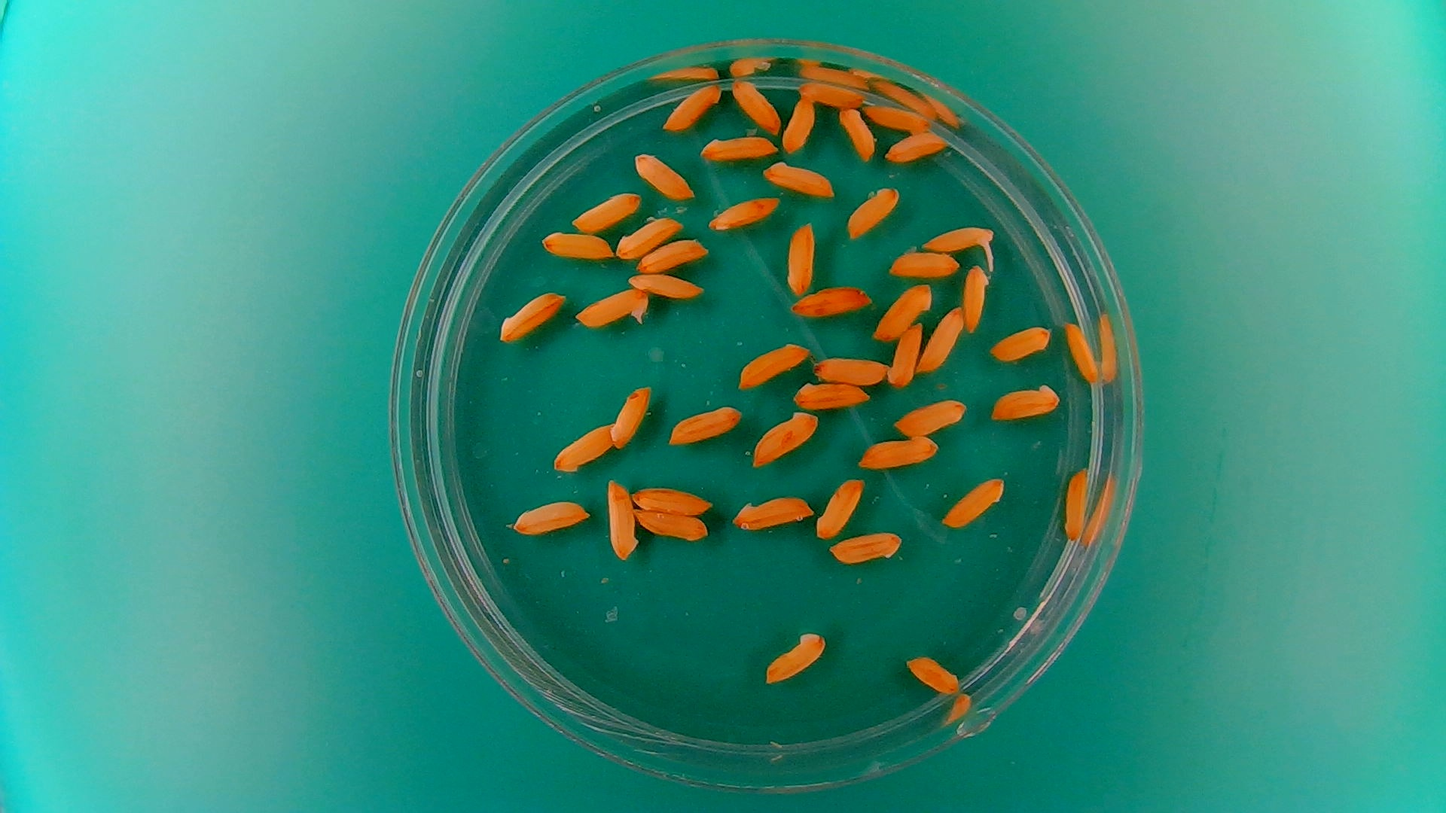no: (749, 408, 820, 470), (761, 627, 828, 686), (735, 338, 811, 390), (496, 288, 566, 344), (939, 473, 1007, 530), (871, 280, 934, 341), (549, 419, 614, 474), (658, 79, 724, 133), (916, 303, 965, 375), (730, 491, 816, 532), (570, 187, 644, 233), (666, 402, 743, 446), (988, 379, 1063, 423), (510, 496, 592, 536), (633, 150, 696, 202), (814, 476, 865, 540), (614, 213, 683, 260), (729, 76, 783, 136), (892, 396, 969, 438), (856, 433, 941, 471), (607, 380, 652, 451), (605, 473, 640, 562), (789, 282, 873, 318), (763, 162, 837, 202), (635, 237, 711, 275), (707, 194, 782, 232), (828, 528, 904, 565), (632, 507, 710, 542), (630, 484, 714, 516), (1061, 318, 1101, 385), (811, 353, 889, 387), (902, 652, 962, 696), (988, 322, 1054, 362), (862, 99, 935, 135), (886, 320, 924, 388), (784, 223, 818, 296), (539, 229, 615, 261), (1060, 464, 1090, 544), (792, 379, 869, 410), (836, 105, 877, 163), (698, 133, 777, 163), (883, 130, 951, 164), (796, 78, 868, 110), (886, 247, 960, 278), (960, 261, 991, 334), (625, 271, 703, 300), (782, 94, 818, 154)
yes: (573, 285, 651, 330), (919, 221, 996, 256)
